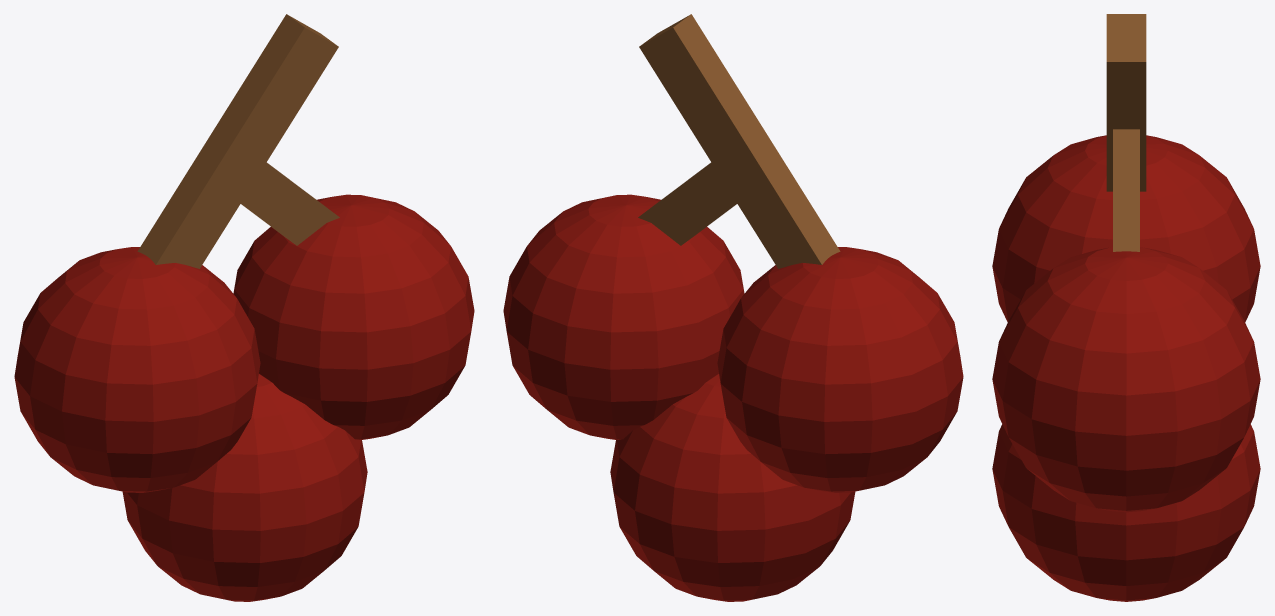
Rendered from RipeBerry.fbx.
3 renders of one model, left to right at view 1: azimuth 30°, elevation 25°; view 2: azimuth 150°, elevation 25°; view 3: azimuth 270°, elevation 25°, orthographic. The views are drawn at different scales.
Visible parts, largest first — view 1: Sphere.002; view 2: Sphere.002; view 3: Sphere.002.
Part boxes in pixels (x1,y1,x2,y2): Sphere.002: (14,14,474,601); Sphere.002: (503,14,963,601); Sphere.002: (992,14,1260,601).
Bounding box in the file's own units: 399 × 496 × 200.
